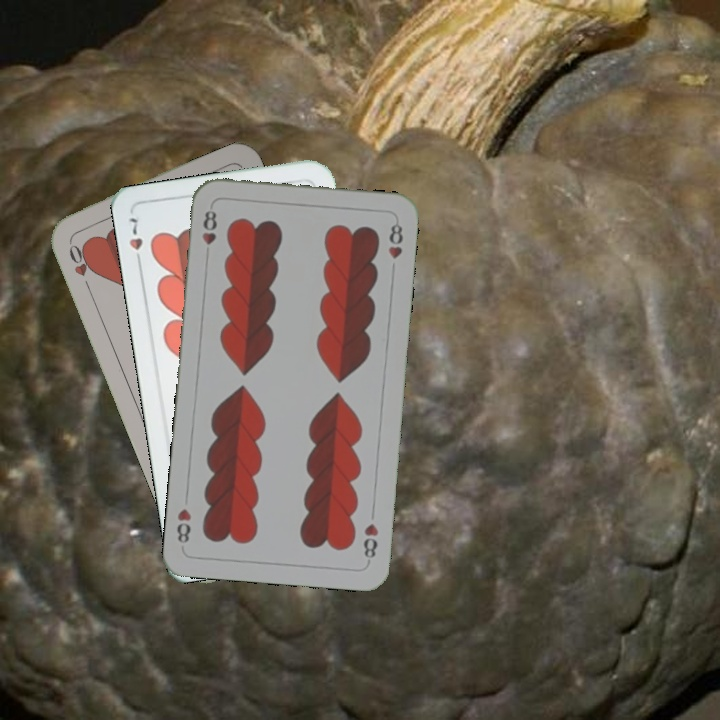H7: (124, 212, 145, 270)
H8: (198, 206, 220, 261), (359, 519, 381, 565)
HO: (64, 236, 98, 293)
